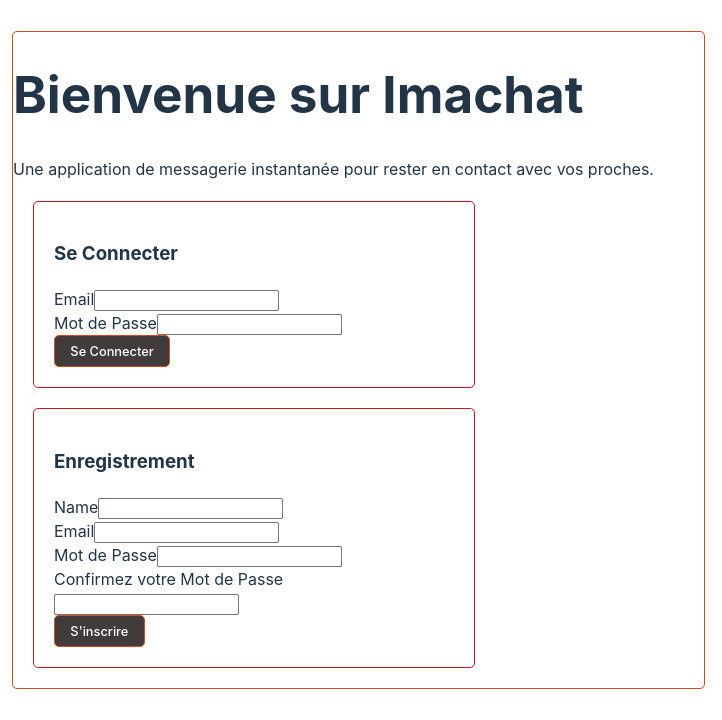
Test: login Component › should display error message with invalid credentials
In the field with id "email": (187, 301) [94, 290, 279, 311], type "invalid_email@example.com"
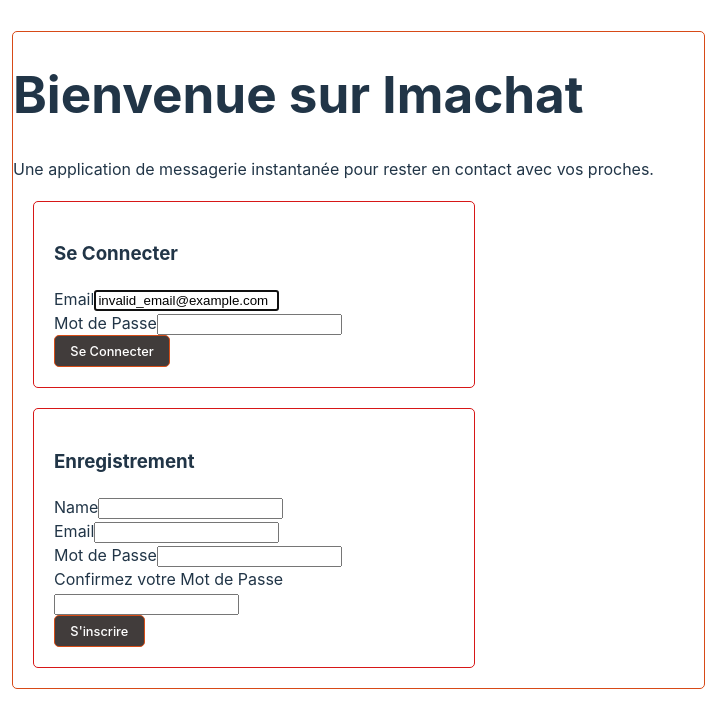
In the password field labelled "Mot de Passe": (250, 325) [157, 314, 342, 335], type "invalid_password"
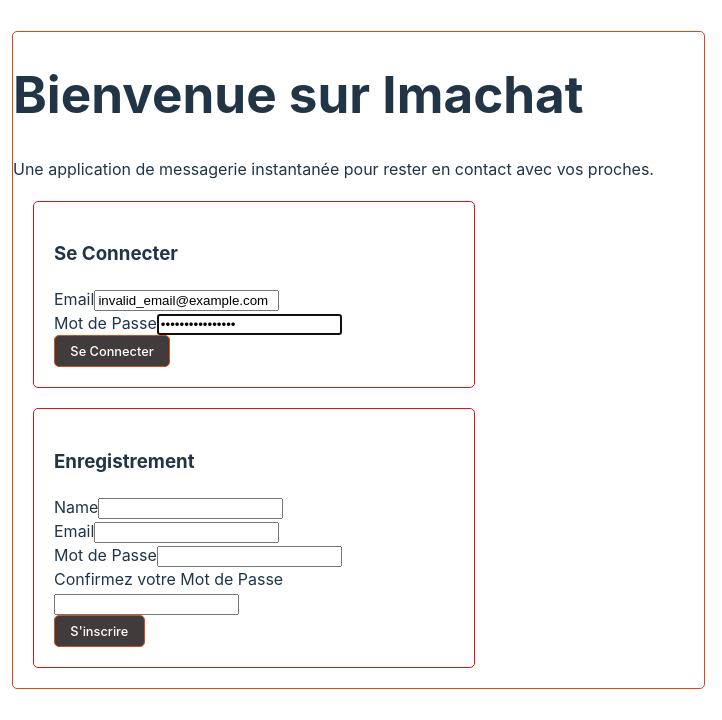
Click the button with class "login-button": (112, 351) [54, 335, 170, 367]
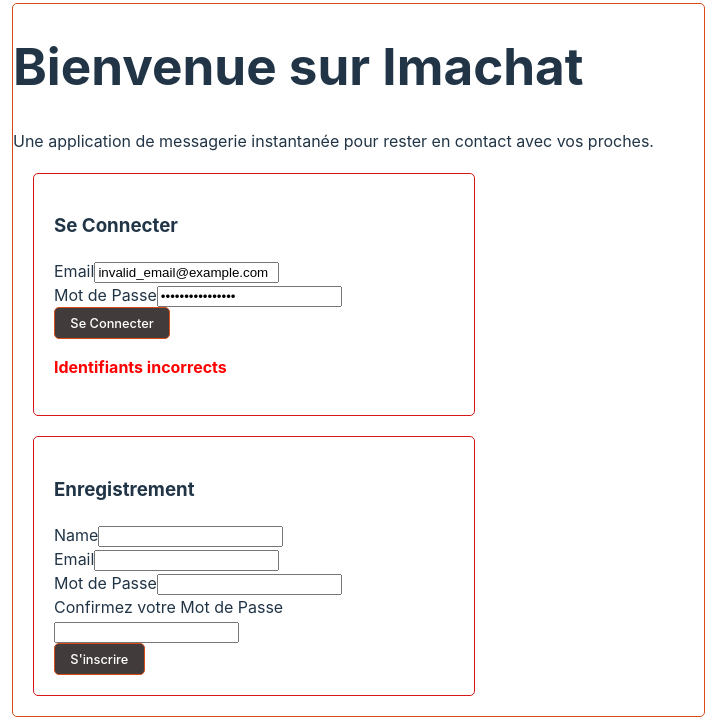
Result: the text "Identifiants incorrects" is shown at [54, 358, 227, 378]
